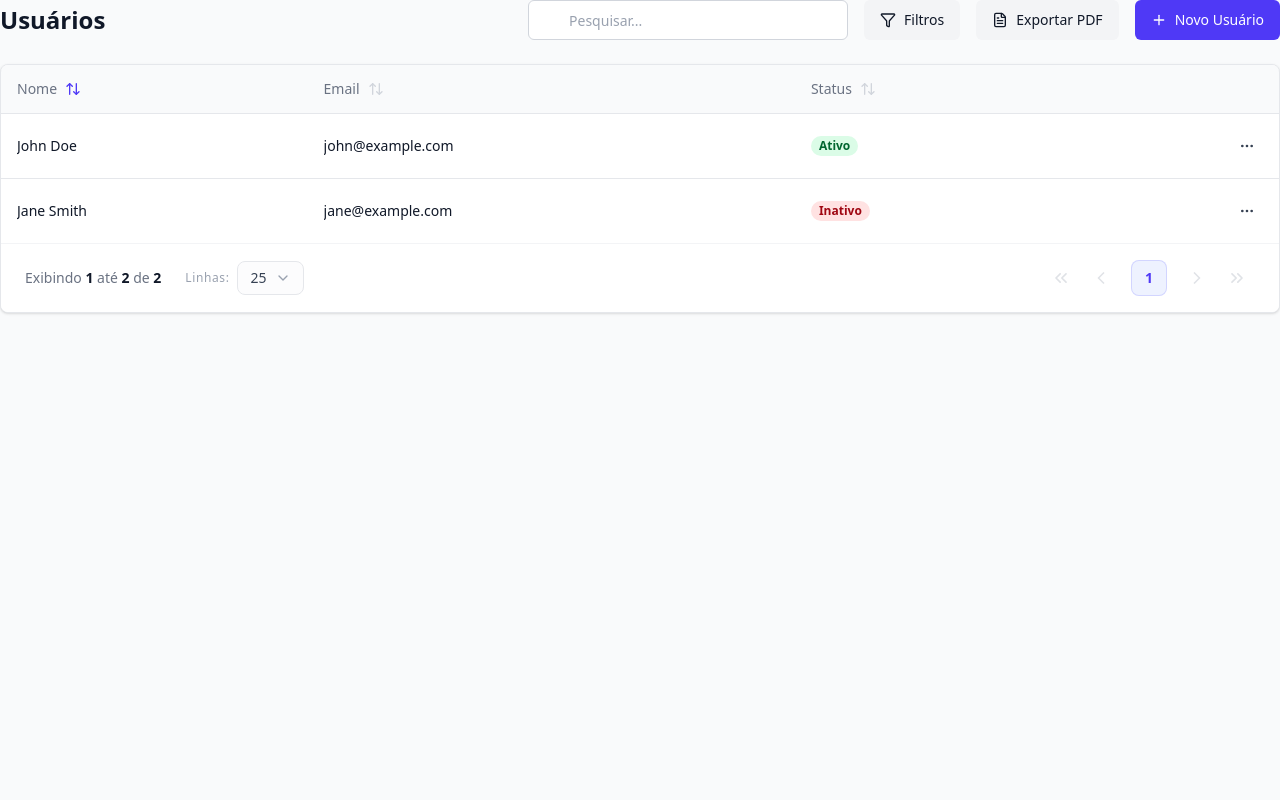
Test: UserListPage › handles delete mutation error without response message
Check: the text "John Doe" is shown, box [17,136,77,154]
Click the button named "Abrir menu" in the row of "John Doe": {"x": 1247, "y": 146} [1231,130,1263,162]
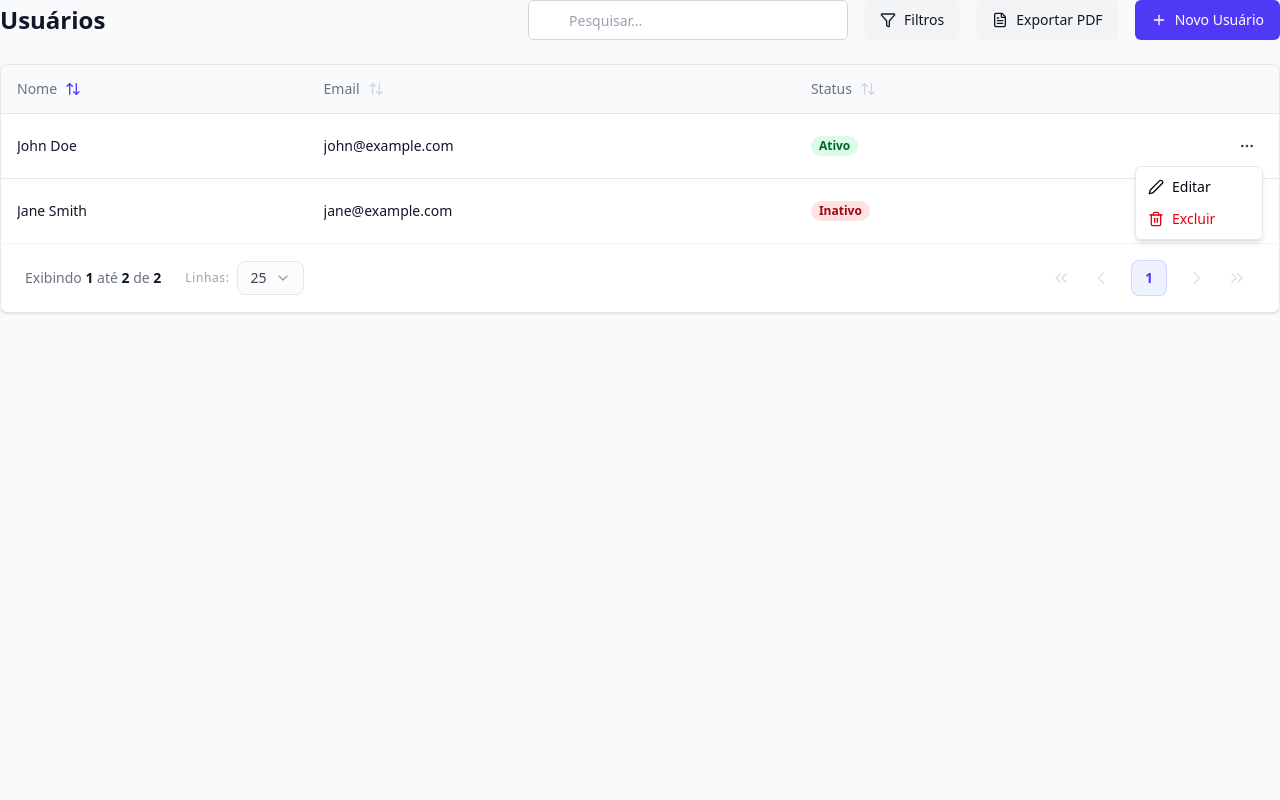
Click the menu item "Excluir": {"x": 1182, "y": 218} [1148,209,1215,228]
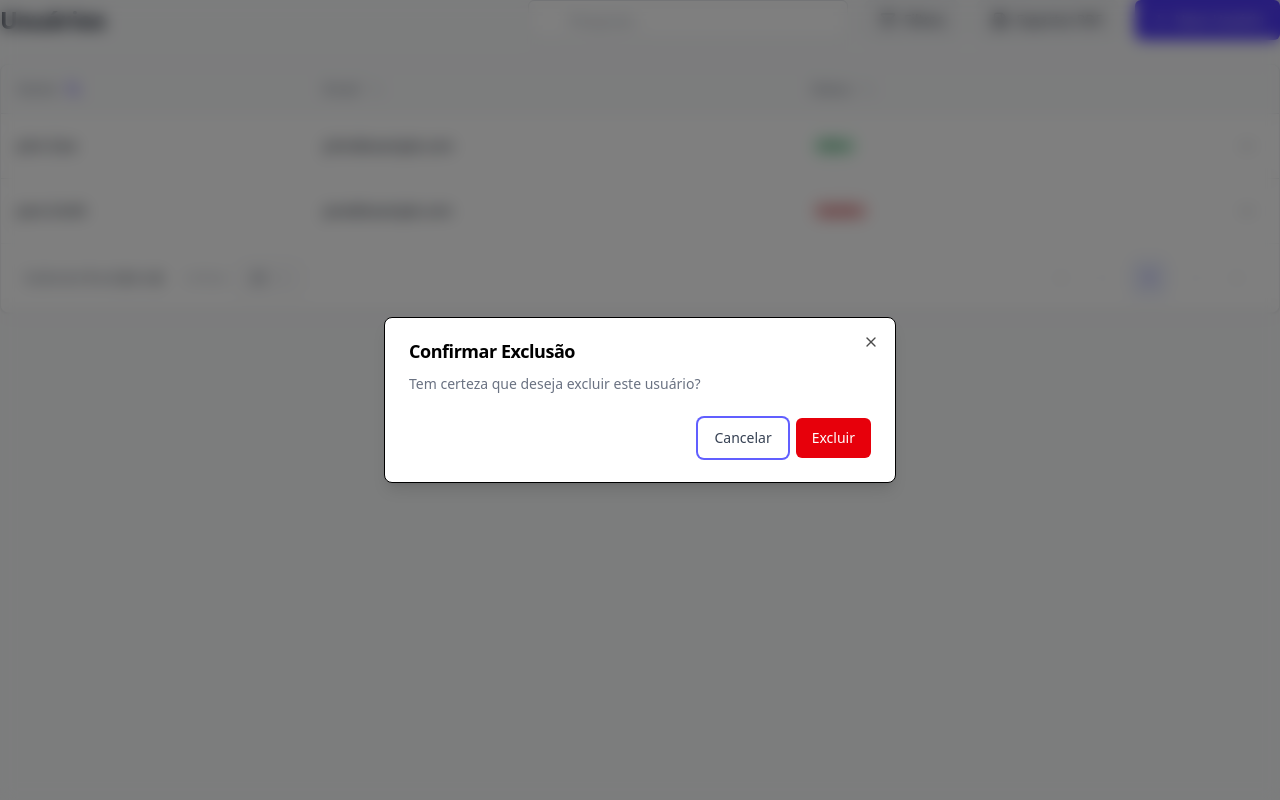
Click the button "Excluir": {"x": 833, "y": 438} [796,418,871,458]
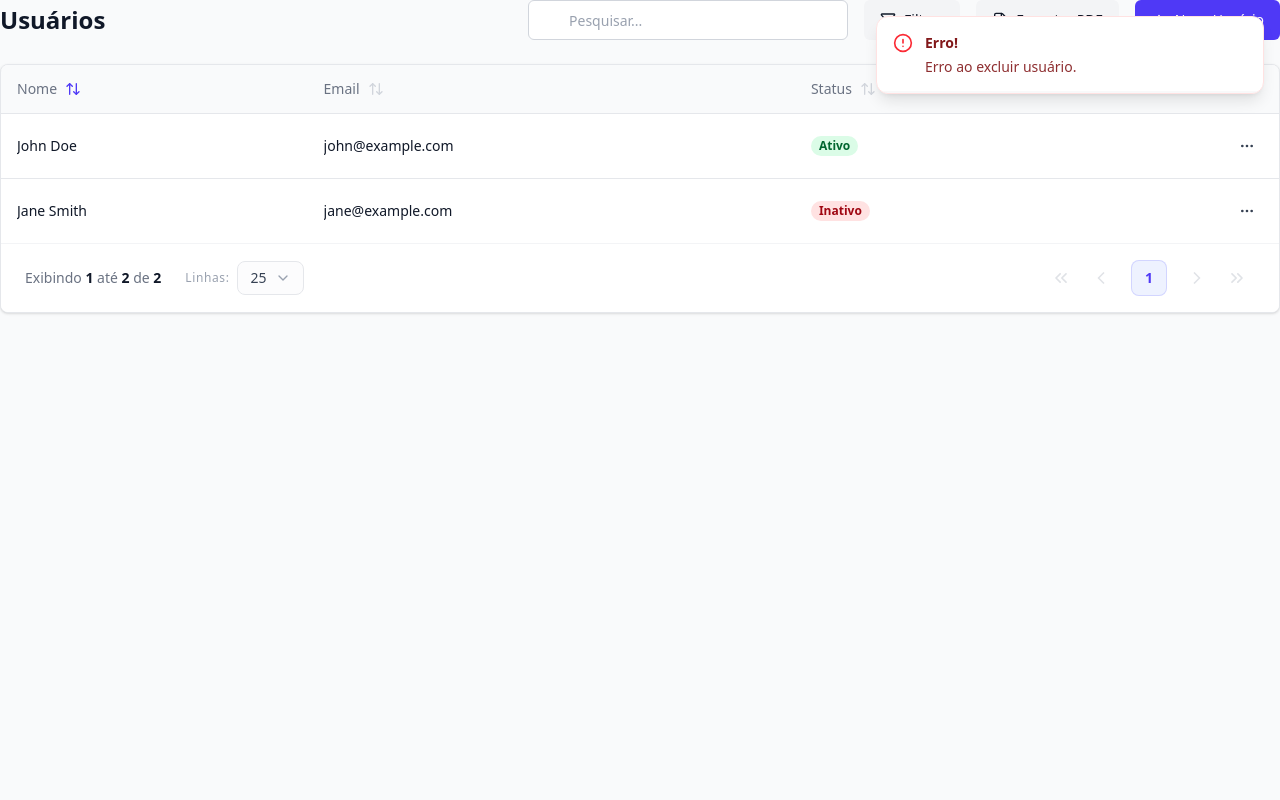
Check: the text "Erro ao excluir usuário." is shown, box [925,57,1076,77]
